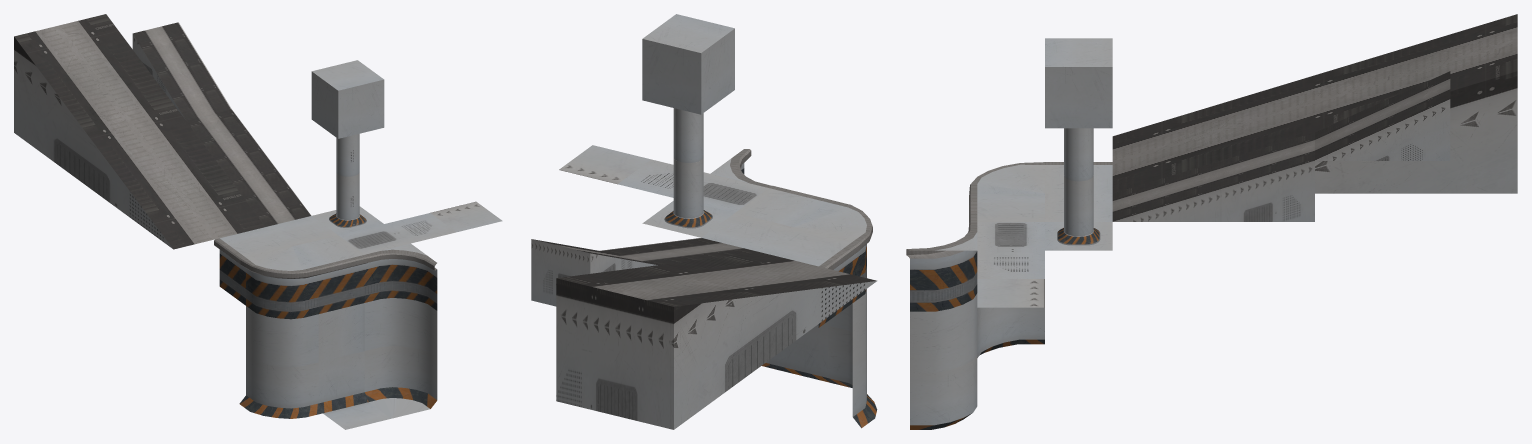
The model's file is parts.glb.
3 renders of one model, left to right at view 1: azimuth 30°, elevation 25°; view 2: azimuth 150°, elevation 25°; view 3: azimuth 270°, elevation 25°, orthographic. The views are drawn at different scales.
Visible parts, largest first — view 1: ramp 2x6, ramp 1x3, ramp 1x2, Cube, Edge_corner_out, Edge_corner_in, Edge_corner_out_floor, Edge_corner_in.001, corner_in, corner_out, 90 degrees, Edge (+8 smaller); view 2: ramp 2x6, Cube, ramp 1x2, Floor.001, Edge.001, Edge_corner_out, Edge_corner_out_floor, ramp 1x3, Edge, 90 degrees, Floor, arrows (+5 smaller); view 3: ramp 2x6, ramp 1x3, ramp 1x2, Cube, Edge_corner_in.001, corner_in, Edge_corner_in, Floor.001, Edge_corner_out_floor, Edge, Edge_corner_out, vent (+5 smaller).
Boxes of the visible parts, x1=… form: ramp 2x6: x1=14, y1=14, x2=265, y2=249; ramp 1x3: x1=186, y1=109, x2=311, y2=226; ramp 1x2: x1=132, y1=22, x2=231, y2=120; Cube: x1=311, y1=60, x2=384, y2=138; Edge_corner_out: x1=240, y1=246, x2=321, y2=319; Edge_corner_in: x1=364, y1=346, x2=437, y2=418; Edge_corner_out_floor: x1=239, y1=354, x2=322, y2=418; Edge_corner_in.001: x1=364, y1=243, x2=437, y2=310; corner_in: x1=364, y1=298, x2=437, y2=358; corner_out: x1=246, y1=306, x2=318, y2=367; 90 degrees: x1=318, y1=351, x2=390, y2=429; Edge: x1=292, y1=235, x2=367, y2=313; ramp 2x6: x1=556, y1=252, x2=876, y2=429; Cube: x1=642, y1=14, x2=734, y2=114; ramp 1x2: x1=531, y1=239, x2=657, y2=306; Floor.001: x1=642, y1=158, x2=734, y2=237; Edge.001: x1=760, y1=227, x2=859, y2=327; Edge_corner_out: x1=794, y1=200, x2=872, y2=302; Edge_corner_out_floor: x1=828, y1=325, x2=877, y2=428; ramp 1x3: x1=599, y1=238, x2=759, y2=264; Edge: x1=735, y1=185, x2=830, y2=227; 90 degrees: x1=769, y1=324, x2=832, y2=383; Floor: x1=701, y1=213, x2=793, y2=251; arrows: x1=559, y1=145, x2=650, y2=184; ramp 2x6: x1=1112, y1=14, x2=1517, y2=193; ramp 1x3: x1=1112, y1=132, x2=1314, y2=221; ramp 1x2: x1=1315, y1=71, x2=1450, y2=160; Cube: x1=1045, y1=38, x2=1112, y2=128; Edge_corner_in.001: x1=906, y1=222, x2=977, y2=311; corner_in: x1=910, y1=293, x2=977, y2=372; Edge_corner_in: x1=910, y1=355, x2=977, y2=429; Floor.001: x1=1045, y1=175, x2=1112, y2=250; Edge_corner_out_floor: x1=977, y1=307, x2=1044, y2=357; Edge: x1=969, y1=193, x2=1044, y2=223; Edge_corner_out: x1=969, y1=162, x2=1044, y2=194; vent: x1=977, y1=222, x2=1044, y2=250.
Bounding box in the file's own units: 12 × 12 × 18.11.
Materials: 1 (1 with a texture image).
